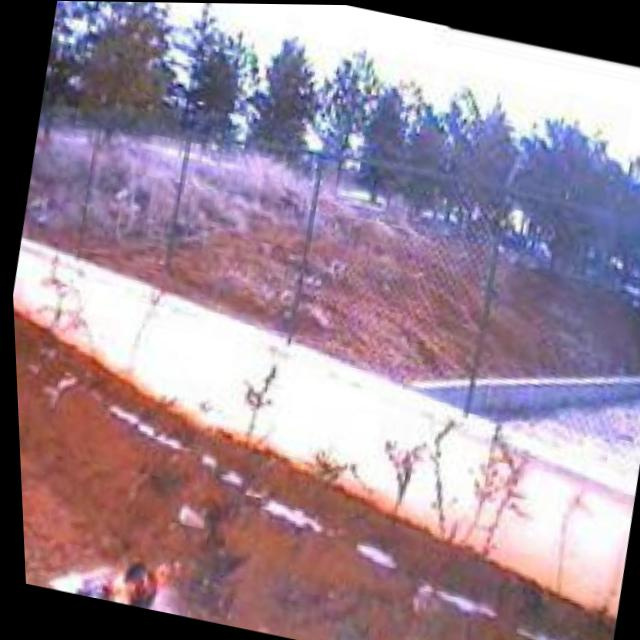Fire: (62, 532, 181, 614)
